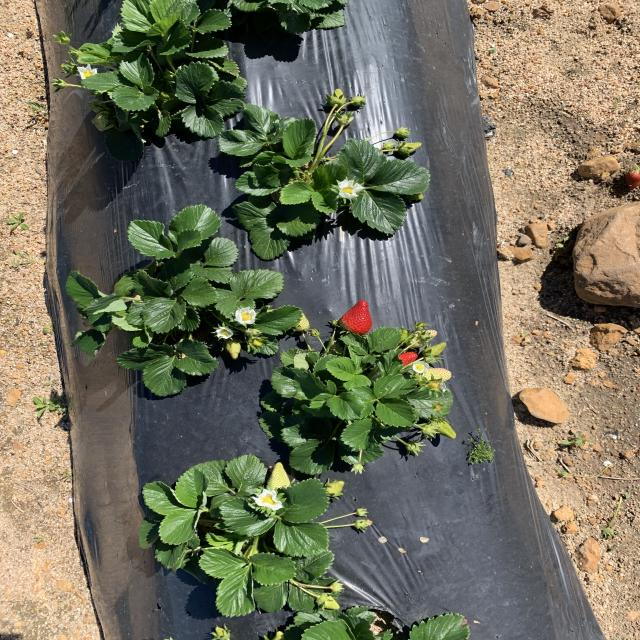unripe: (338, 298, 373, 336), (391, 349, 419, 370)
